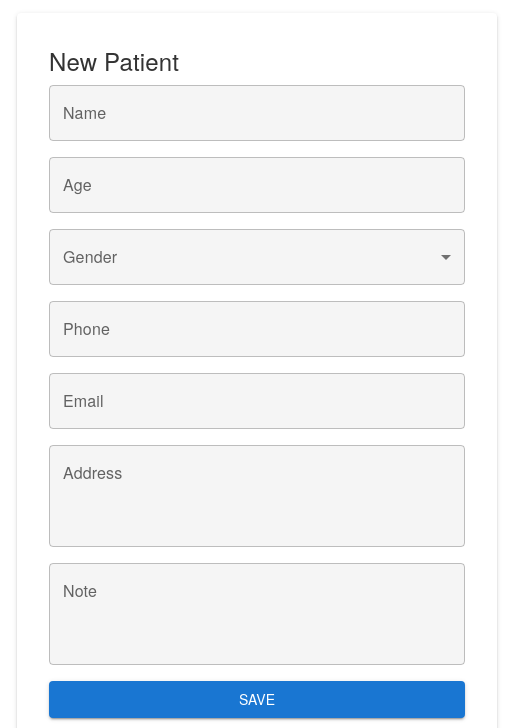
Test: RegisterPatientPage › renders the server field messages against the offending inputs on a 400
Type "30" into the number field labelled "Age".
click(257, 185); type("30")  # box x1=49 y1=157 x2=465 y2=213
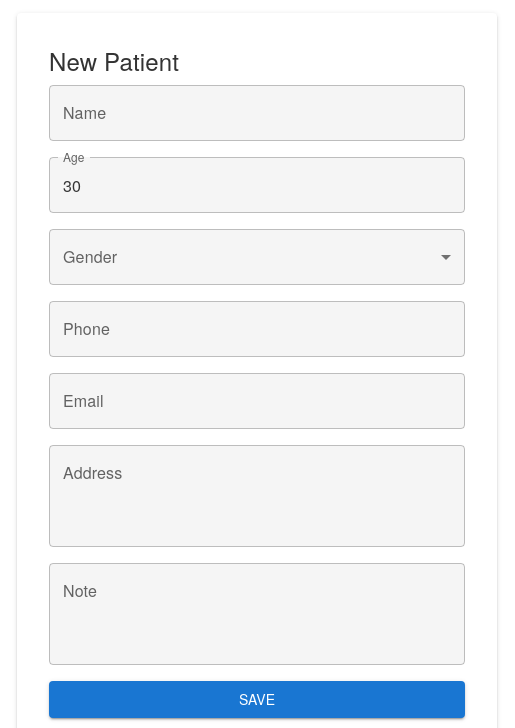
Click the button "Save".
click(257, 700)  # box x1=49 y1=681 x2=465 y2=718
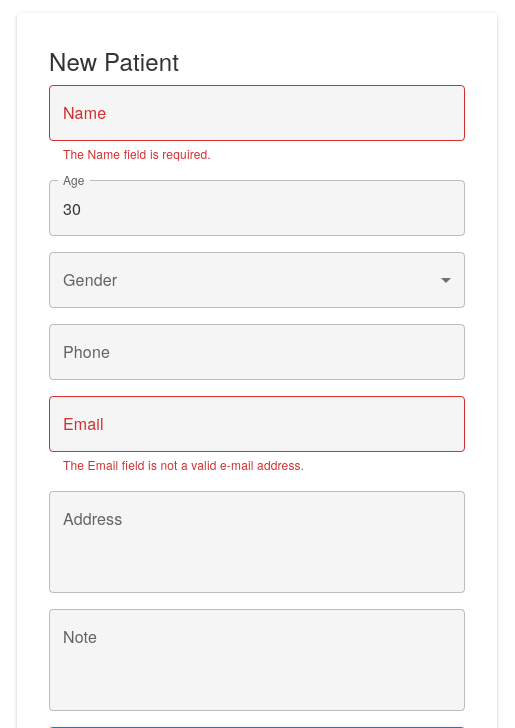
Result: the text "The Name field is required." is shown at x1=63 y1=145 x2=211 y2=162
Result: the text "The Email field is not a valid e-mail address." is shown at x1=63 y1=456 x2=304 y2=473
